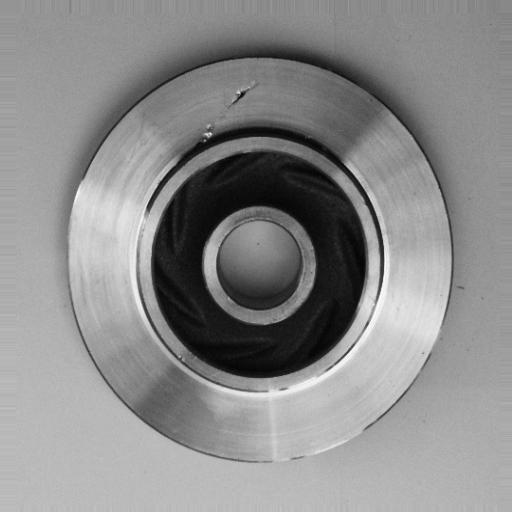crack: (193, 78, 261, 165)
scratch: (244, 366, 354, 400)
unpolished_casting: (65, 52, 457, 468)
